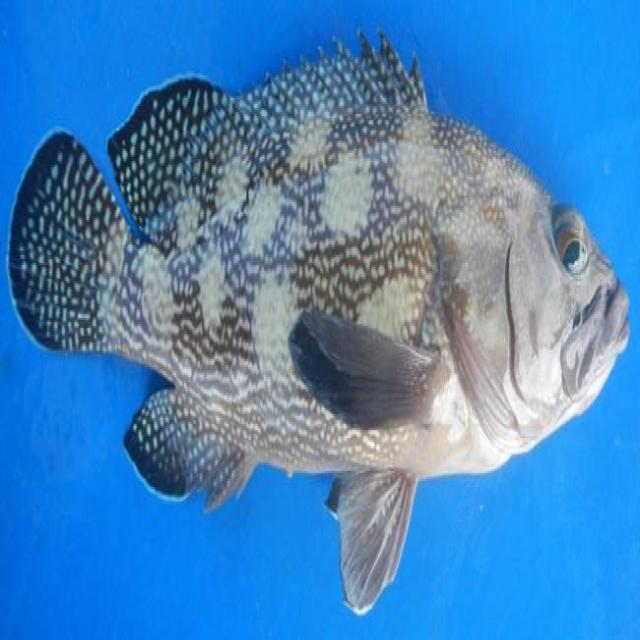ikan: (6, 24, 630, 614)
